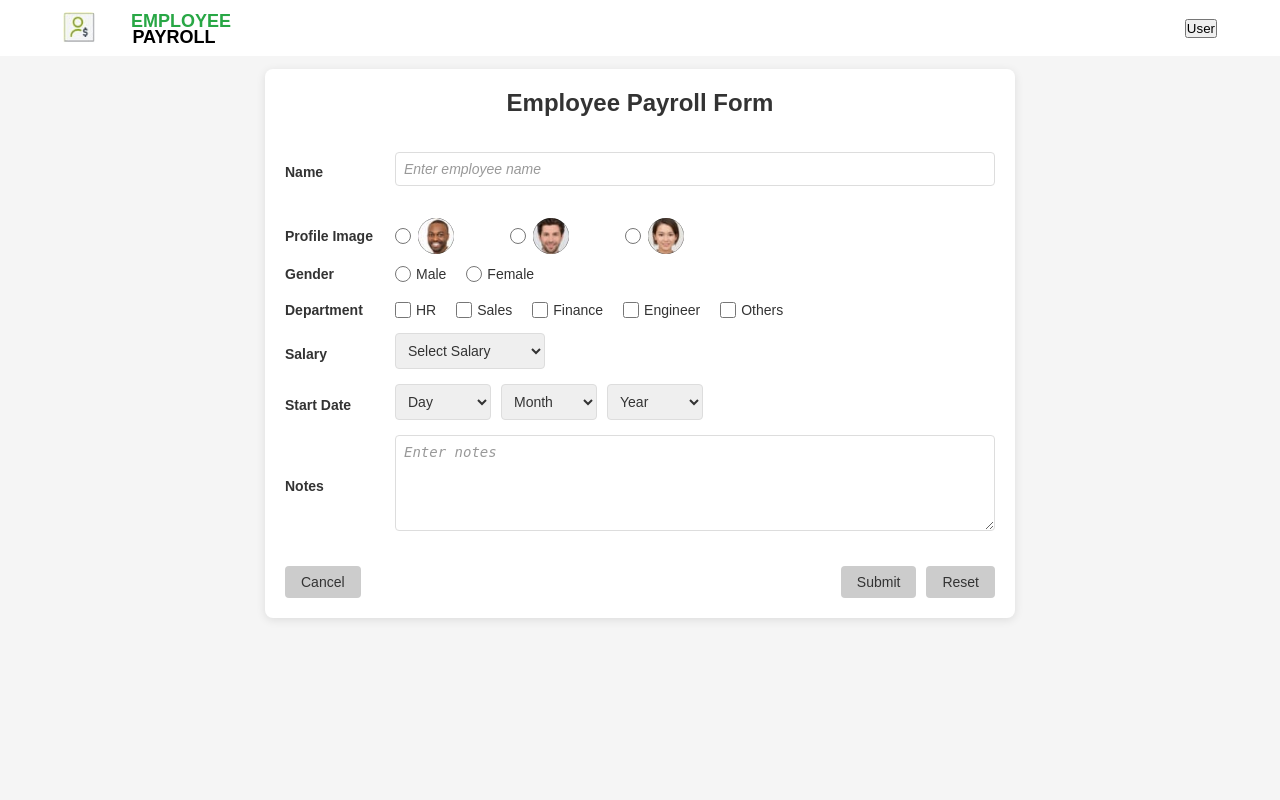
Test case: EmployeeForm Component › should show error messages for empty fields on submit
The width and height of the screenshot is (1280, 800).
Click the button "Submit". click: point(879, 582)
box: [841, 566, 916, 598]
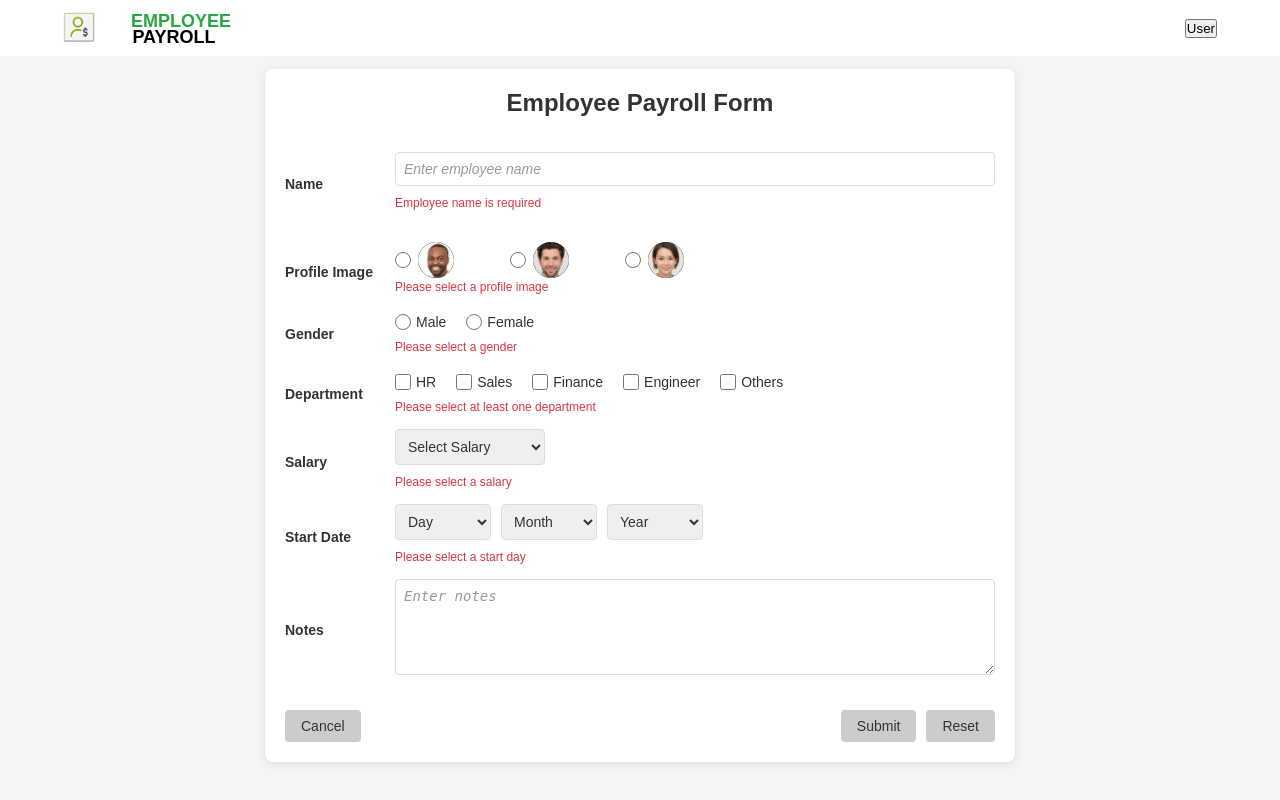
Check: the text "Employee name is required" is shown, box [395, 196, 541, 210]
Check: the text "Please select a profile image" is shown, box [395, 280, 548, 294]
Check: the text "Please select a gender" is shown, box [395, 340, 517, 354]
